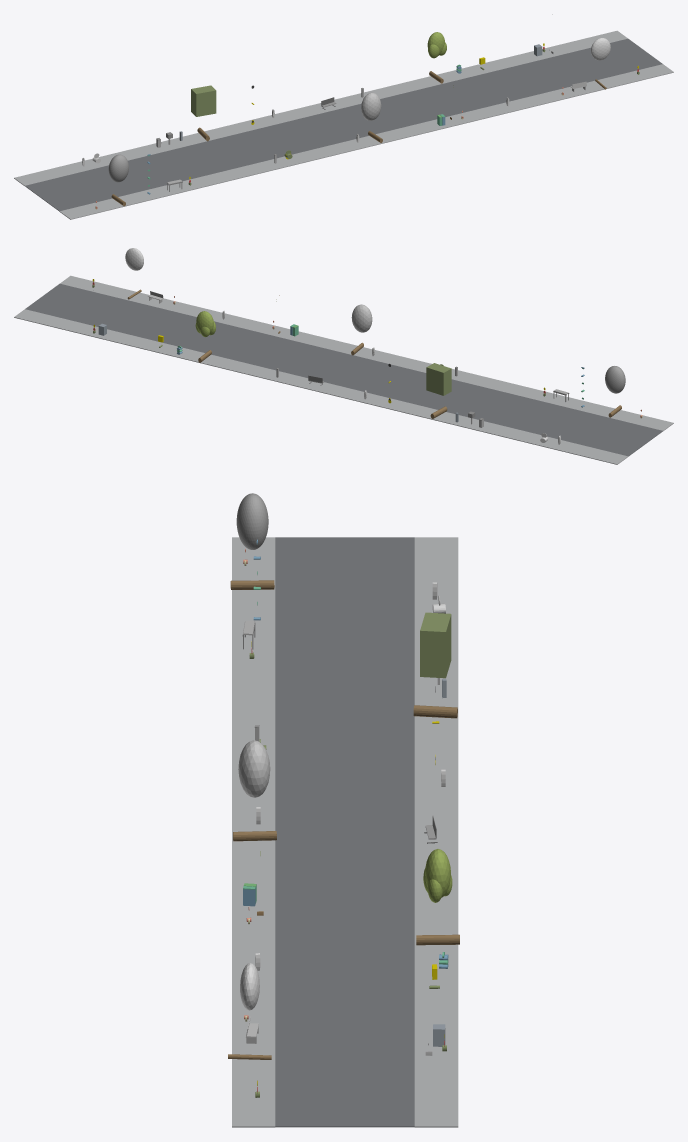
3 views of the same model, one above another, from view 1: azimuth 30°, elevation 25°; view 2: azimuth 150°, elevation 25°; view 3: azimuth 270°, elevation 25° (orthographic). The views are drawn at different scales.
Parts seen in each view (by area): view 1: road_slab, sidewalk_left, sidewalk_right, inst_0013, inst_0012, inst_0014, inst_0015, inst_0016; view 2: road_slab, sidewalk_right, sidewalk_left, inst_0013, inst_0014, inst_0012, inst_0015, inst_0016; view 3: road_slab, sidewalk_left, sidewalk_right, inst_0013, inst_0014, inst_0012, inst_0015, inst_0016.
Part boxes in pixels (x1,y1,x2,y2): road_slab: (25, 38, 662, 211); sidewalk_left: (59, 64, 673, 219); sidewalk_right: (14, 30, 627, 185); inst_0013: (191, 85, 216, 141); inst_0012: (108, 154, 128, 206); inst_0014: (361, 92, 382, 142); inst_0015: (427, 32, 446, 83); inst_0016: (591, 38, 610, 89); road_slab: (25, 283, 662, 456); sidewalk_right: (14, 309, 628, 464); sidewalk_left: (60, 275, 673, 431); inst_0013: (426, 363, 451, 418); inst_0014: (351, 304, 372, 355); inst_0012: (605, 366, 625, 417); inst_0015: (195, 311, 215, 362); inst_0016: (125, 248, 143, 299); road_slab: (275, 537, 414, 1127); sidewalk_left: (232, 537, 275, 1127); sidewalk_right: (414, 537, 458, 1127); inst_0013: (413, 612, 457, 718); inst_0014: (233, 740, 276, 841); inst_0012: (230, 493, 274, 589); inst_0015: (416, 849, 459, 945); inst_0016: (228, 963, 271, 1059).
Bounding box in the file's own units: 80 × 6.08 × 13.31.
